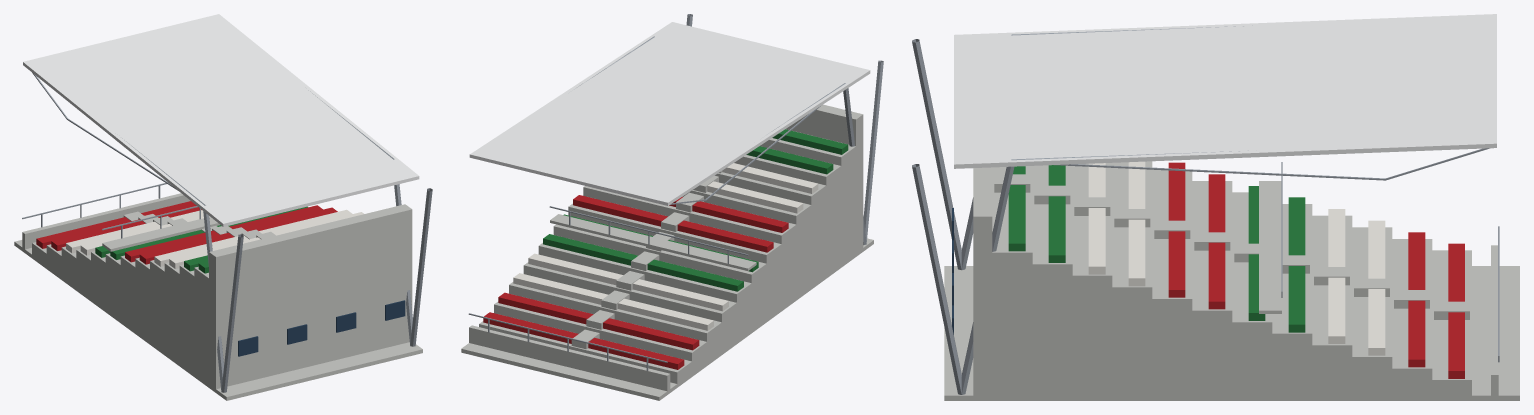
Rendered from grada-hungaroring.glb.
3 renders of one model, left to right at view 1: azimuth 30°, elevation 25°; view 2: azimuth 150°, elevation 25°; view 3: azimuth 270°, elevation 25°, orthographic. The views are drawn at different scales.
Visible parts, largest first — view 1: grada-hungaroring; view 2: grada-hungaroring; view 3: grada-hungaroring.
Boxes of the visible parts, bbox=[...] form: grada-hungaroring: bbox=[14, 14, 432, 400]; grada-hungaroring: bbox=[461, 14, 883, 400]; grada-hungaroring: bbox=[912, 14, 1519, 400].
Size of the model in its own units: 16 by 14.8 by 31.69.
